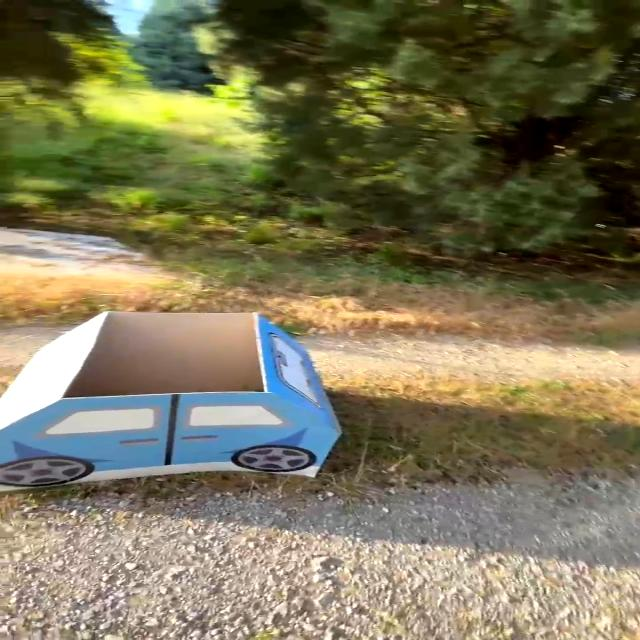blue_car: (0, 282, 370, 514)
